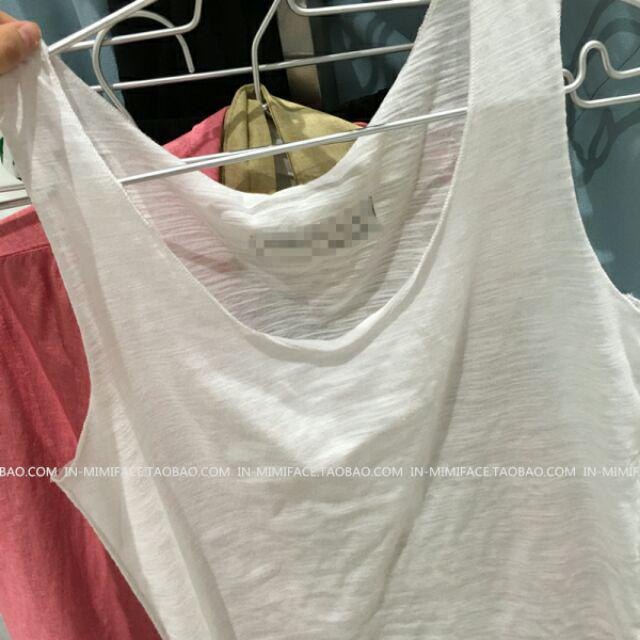Tops: (7, 1, 639, 640)
